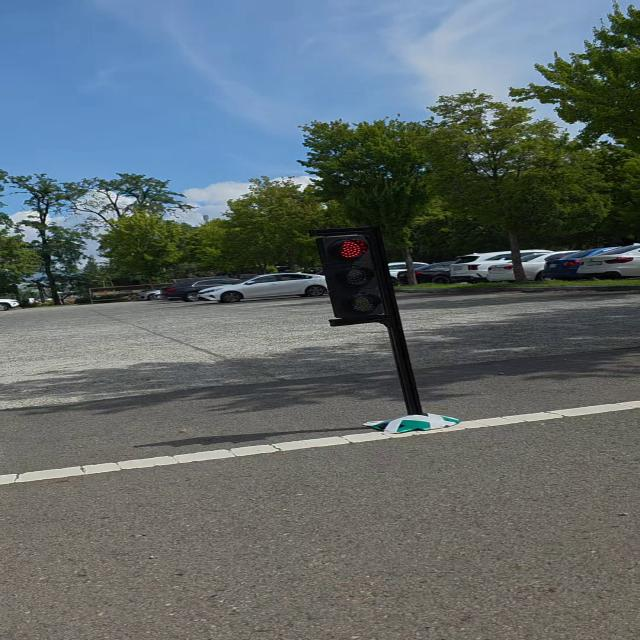red: (310, 230, 398, 322)
